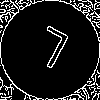L: (25, 25, 72, 78)
